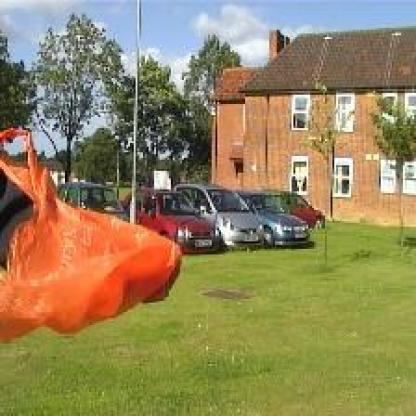other: (0, 116, 186, 341)
